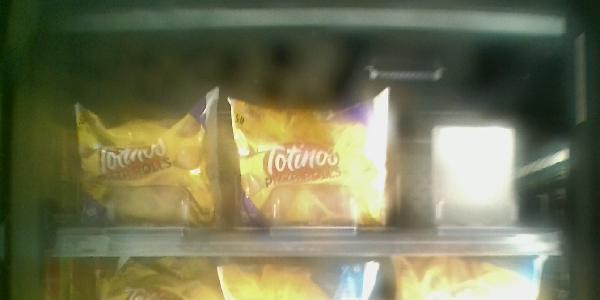icecream: (219, 89, 392, 232), (64, 87, 222, 230)
